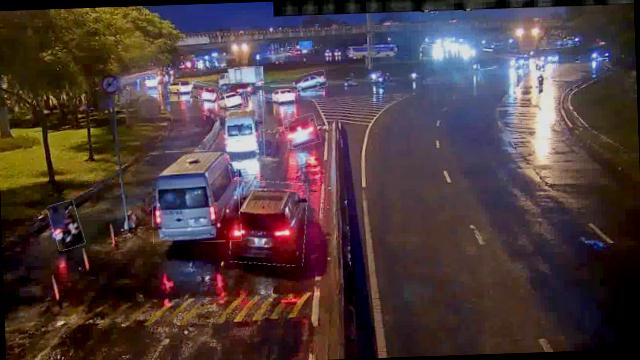Bike: (48, 200, 82, 250), (536, 72, 548, 92)
Bus: (150, 149, 241, 244), (220, 108, 264, 158)
Car: (230, 179, 310, 267), (284, 115, 320, 148), (294, 72, 327, 92), (216, 88, 246, 110), (190, 81, 220, 103), (270, 85, 298, 102)
Truck: (218, 66, 263, 92)
